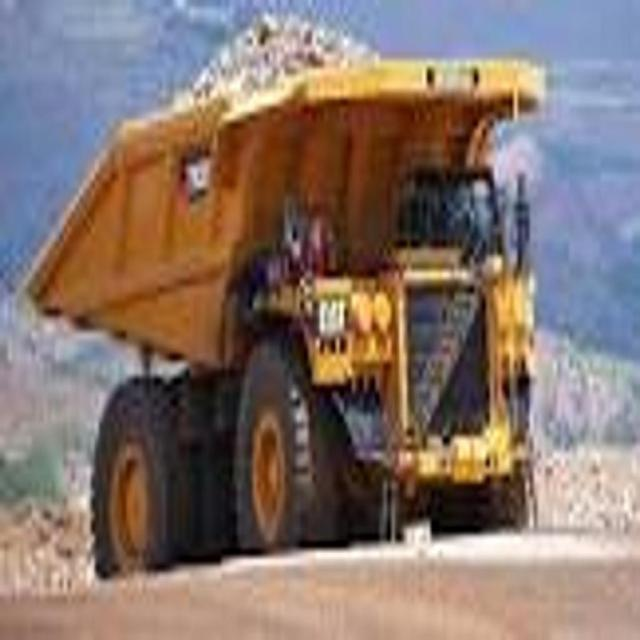dump_truck: (26, 9, 548, 560)
